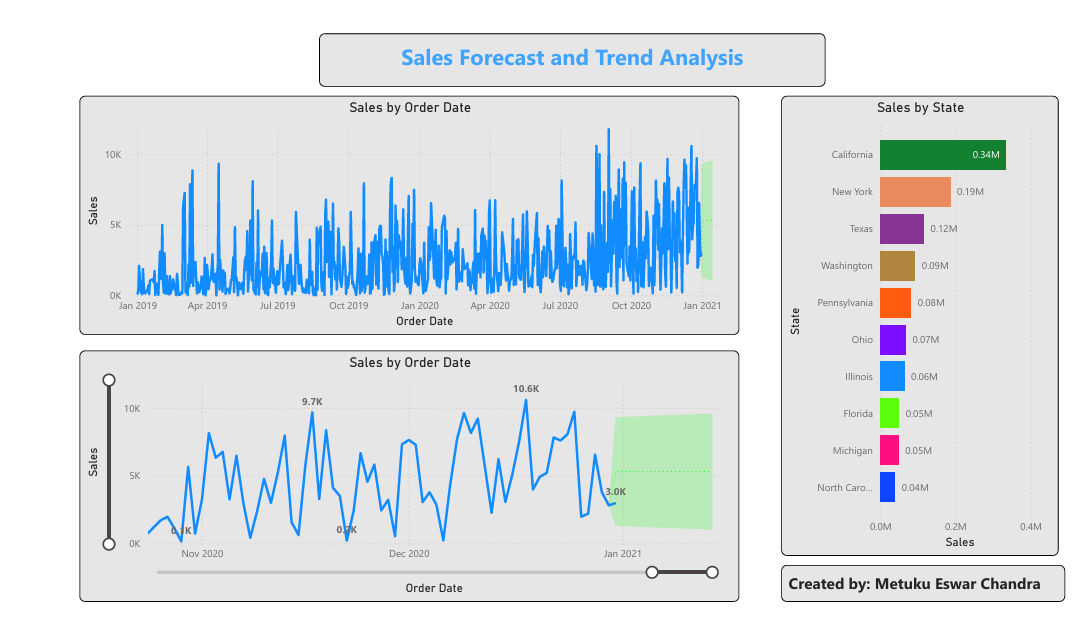

The dashboard page shown, as its layout file describes it:
{"tool":"powerbi","page":{"name":"Sales Forecast","canvas":[1280,720],"ordinal":3},"visuals":[{"type":"lineChart","title":"Sales by Order Date","fields":{"Y":["Sum(SuperStore_Sales_Dataset.Sales)"],"Category":["SuperStore_Sales_Dataset.Order Date"]},"box":[74.1,94.7,804.1,290.9],"z":0},{"type":"lineChart","title":"Sales by Order Date","fields":{"Y":["Sum(SuperStore_Sales_Dataset.Sales)"],"Category":["SuperStore_Sales_Dataset.Order Date"]},"box":[74.1,404.8,804.1,306],"z":1000},{"type":"clusteredBarChart","title":"Sales by State","fields":{"Y":["Sum(SuperStore_Sales_Dataset.Sales)"],"Category":["SuperStore_Sales_Dataset.State"]},"box":[929,94.7,337.6,559.9],"z":2000},{"type":"textbox","box":[366.4,19.2,616.1,64.5],"z":3000},{"type":"textbox","box":[929,665.5,345.8,45.3],"z":3001}]}

Visuals, with their boxes in screenshot pixels (x1, y1, x2, y2), scaled from the page's 1280x720 canvas onto the 1087x627 screenshot:
"Sales by Order Date" lineChart: <region>63, 82, 746, 336</region>
"Sales by Order Date" lineChart: <region>63, 353, 746, 619</region>
"Sales by State" clusteredBarChart: <region>789, 82, 1076, 570</region>
textbox: <region>311, 17, 834, 73</region>
textbox: <region>789, 580, 1083, 619</region>
